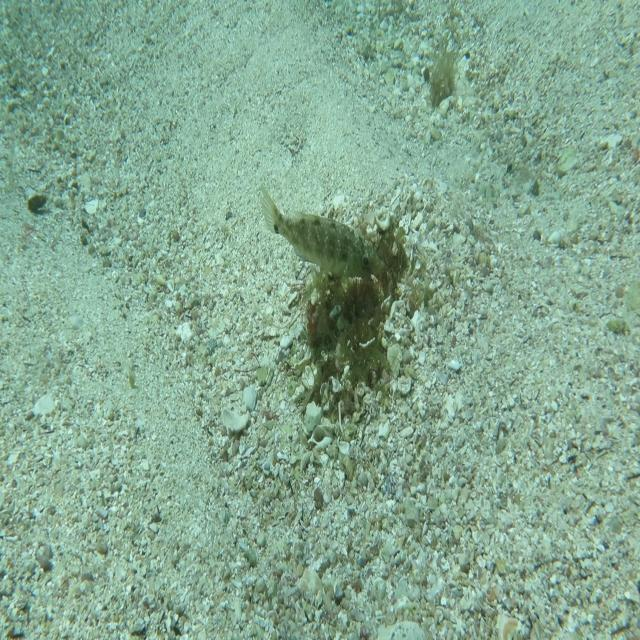FAN: (258, 180, 387, 280)
nest: (295, 209, 425, 417)
vegetation: (426, 45, 459, 110), (26, 184, 45, 215)
